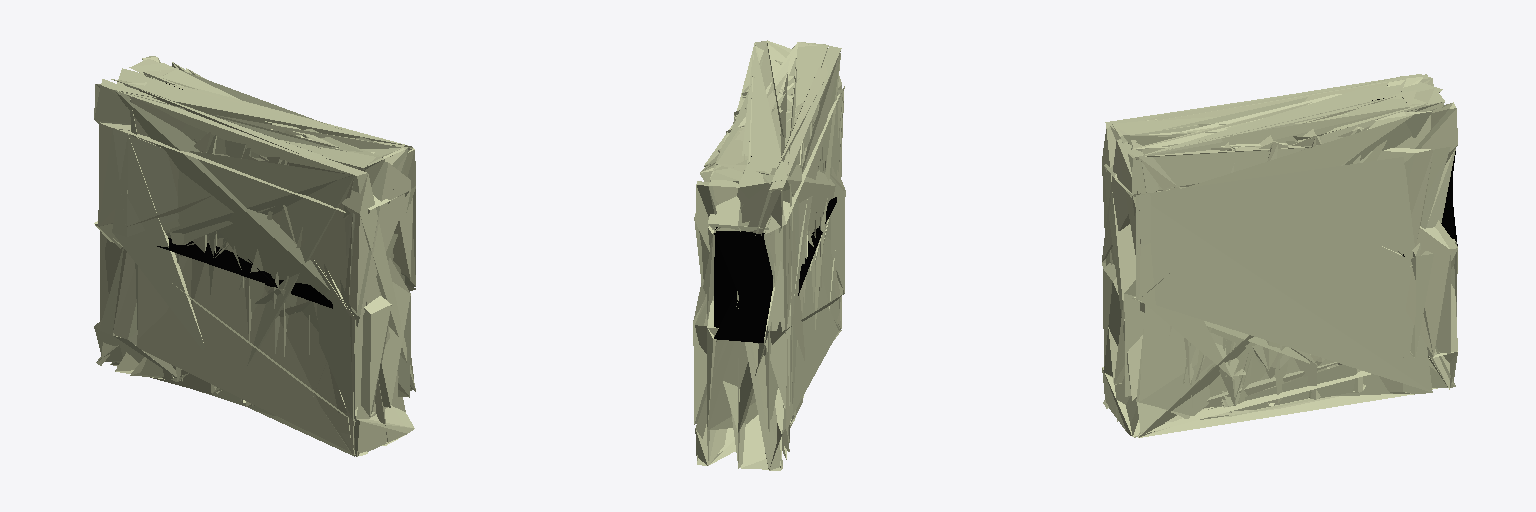
File: Radiator.obj
The picture shows the model from 3 angles: view 1: azimuth 30°, elevation 25°; view 2: azimuth 150°, elevation 25°; view 3: azimuth 270°, elevation 25°; orthographic projection.
Visible parts, largest first — view 1: Box20193, Cylinder017; view 2: Box20193, Cylinder017; view 3: Box20193, Cylinder017.
Part boxes in pixels (x1,y1,x2,y2): Box20193: (94,56,415,456); Cylinder017: (157,83,332,308); Box20193: (693,40,845,470); Cylinder017: (714,156,836,342); Box20193: (1102,74,1457,437); Cylinder017: (1372,98,1457,256).
Size of the model in its own units: 123 by 192 by 215.